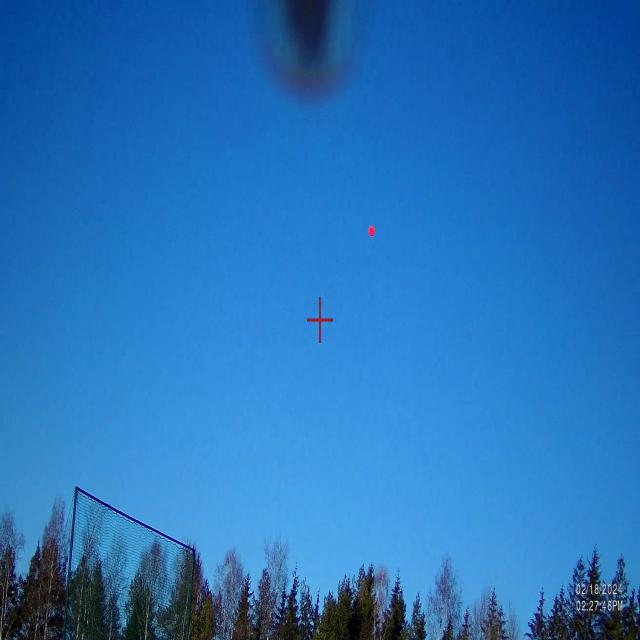entire: (364, 209, 382, 252)
